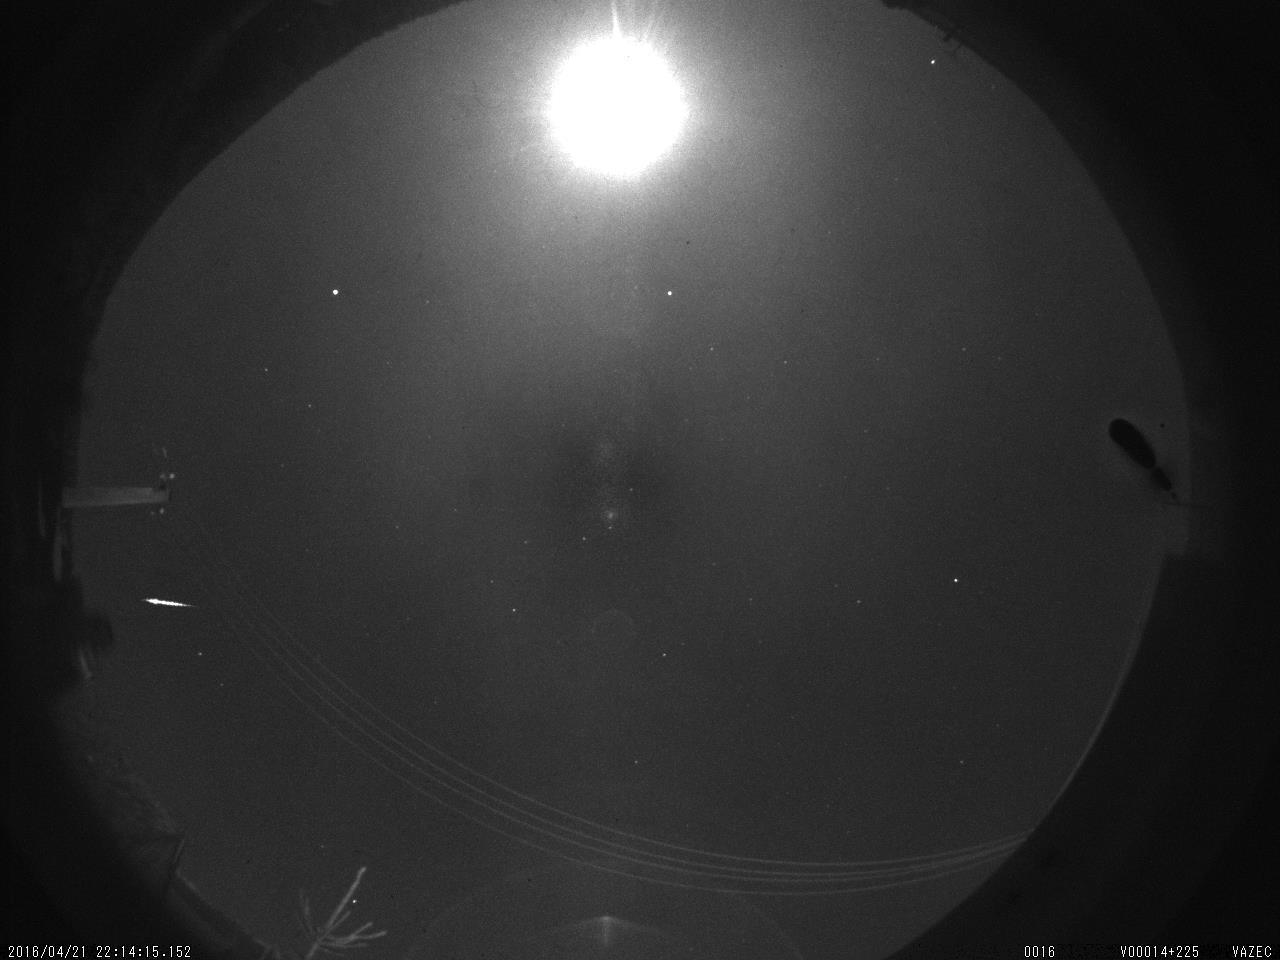Meteor: (136, 589, 204, 620)
